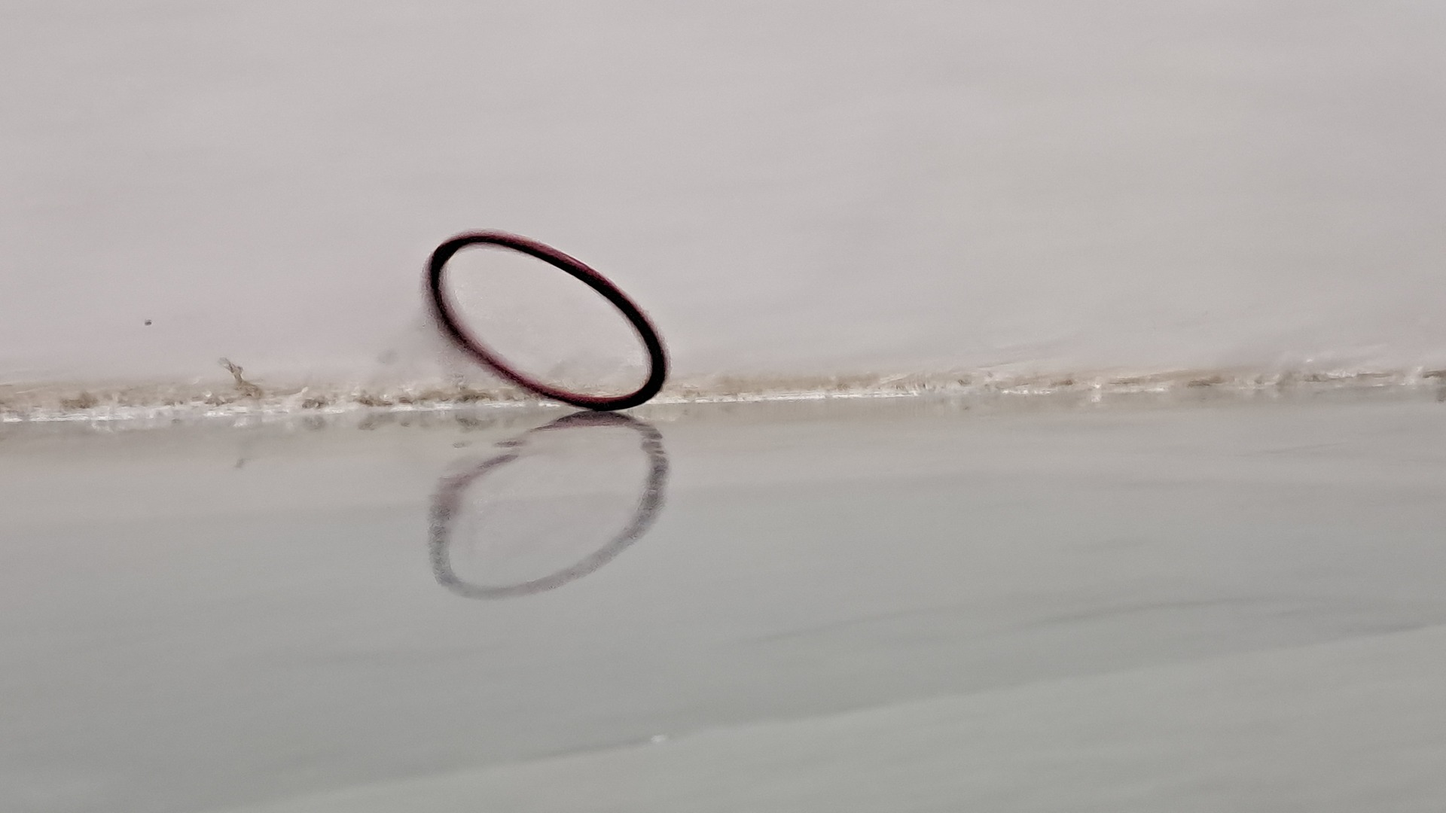Red ring: (425, 233, 671, 416)
